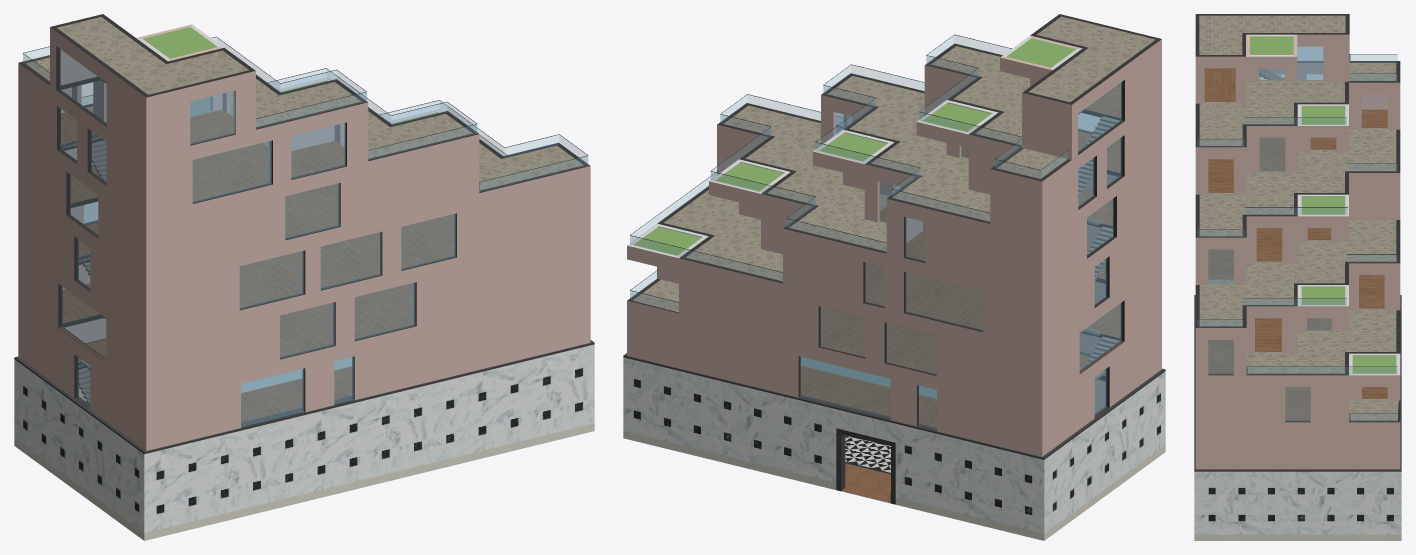
3 renders of one model, left to right at view 1: azimuth 30°, elevation 25°; view 2: azimuth 150°, elevation 25°; view 3: azimuth 270°, elevation 25°, orthographic. The views are drawn at different scales.
Visible parts, largest first — view 1: Top facade, Ground Facade, Top Slabs, Top Glass., Ballustrades, 01_slab, Planters, Glass Slab; view 2: Top facade, Top Slabs, Ground Facade, Top Glass., Ballustrades, Planters, 01_slab, Ground Slab, 00_Ramp_stair.008, Glass Slab; view 3: Top Slabs, Top facade, Ground Facade, Planters, Ballustrades, Top Glass..
Part boxes in pixels (box(x1,y1,x2,y2)): Top facade: box(18, 14, 590, 450); Ground Facade: box(14, 338, 594, 540); Top Slabs: box(25, 17, 583, 361); Top Glass.: box(59, 49, 455, 426); Ballustrades: box(23, 36, 588, 191); 01_slab: box(78, 339, 352, 422); Planters: box(136, 24, 441, 124); Glass Slab: box(241, 357, 351, 392); Top facade: box(627, 14, 1161, 456); Top Slabs: box(633, 16, 1155, 373); Ground Facade: box(623, 351, 1165, 540); Top Glass.: box(800, 82, 1121, 429); Ballustrades: box(630, 34, 1068, 311); Planters: box(627, 35, 1082, 271); 01_slab: box(801, 354, 1105, 427); Ground Slab: box(841, 435, 891, 503); 00_Ramp_stair.008: box(1078, 116, 1119, 280); Glass Slab: box(801, 357, 936, 398); Top Slabs: box(1199, 15, 1398, 420); Top facade: box(1195, 14, 1400, 469); Ground Facade: box(1194, 295, 1401, 540); Planters: box(1246, 34, 1400, 386); Ballustrades: box(1197, 54, 1397, 421); Top Glass.: box(1208, 46, 1331, 421).
Size of what is drawn, in the model's own units: 32 by 30 by 16.
Materials: 19 (5 with a texture image).
